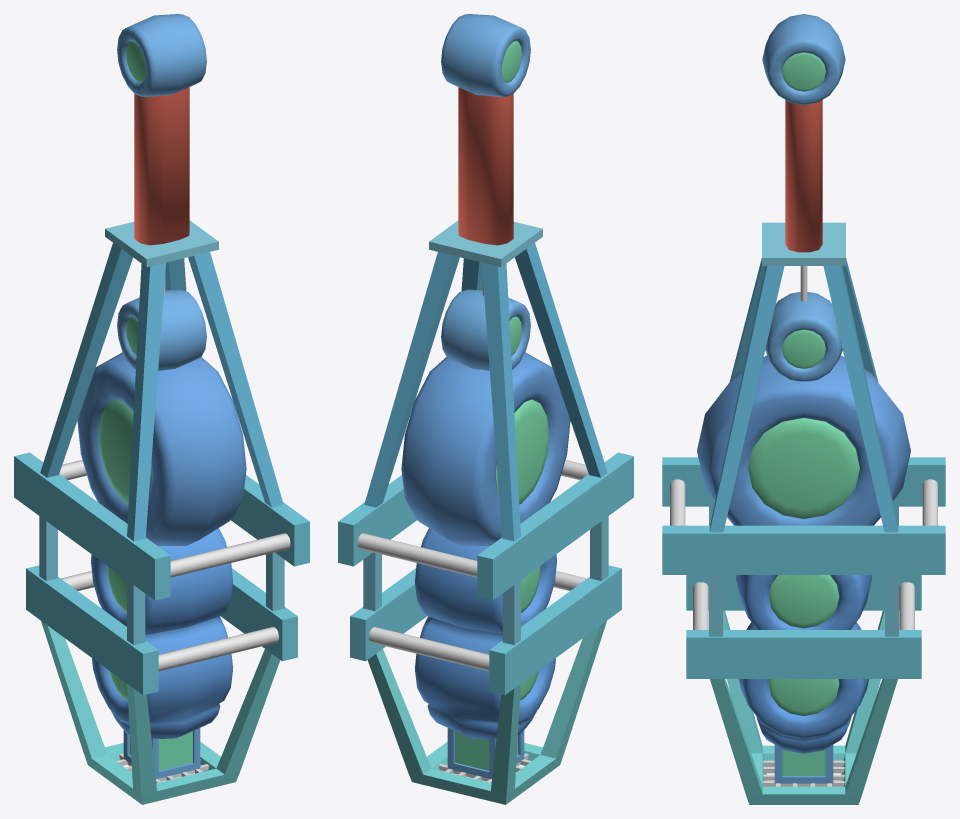
The model's file is healingcharm.fbx.
3 renders of one model, left to right at view 1: azimuth 30°, elevation 25°; view 2: azimuth 150°, elevation 25°; view 3: azimuth 270°, elevation 25°, orthographic.
Parts seen in each view (by area): view 1: Cube.003, Cylinder.003, Cube.004, Cylinder.002, Cube.007, Cube.009, Cylinder.007, Cube.010, Cylinder.001, Cube.006, Cylinder.004, Cube (+4 smaller); view 2: Cube.003, Cylinder.003, Cube.004, Cylinder.002, Cube.007, Cube.009, Cylinder.007, Cube.010, Cylinder.001, Cube.006, Cylinder.004, Cube (+4 smaller); view 3: Cube.003, Cylinder.003, Cube.004, Cube.007, Cylinder.002, Cylinder.004, Cube.009, Cylinder.007, Cylinder.001, Cylinder.005, Cube.010, Cube (+7 smaller).
Boxes of the visible parts, x1,y1,x2,y2 form: Cube.003: (14,452,309,695); Cylinder.003: (77,352,246,546); Cube.004: (40,243,283,541); Cylinder.002: (91,528,232,738); Cube.007: (41,621,280,804); Cube.009: (134,87,189,245); Cylinder.007: (117,14,206,97); Cube.010: (59,460,290,671); Cylinder.001: (117,289,206,370); Cube.006: (39,516,284,645); Cylinder.004: (98,399,152,504); Cube: (105,220,218,266); Cube.003: (338,452,633,695); Cylinder.003: (401,352,570,546); Cube.004: (364,243,607,541); Cylinder.002: (415,528,556,738); Cube.007: (367,621,606,804); Cube.009: (458,87,513,245); Cylinder.007: (441,14,530,97); Cube.010: (357,460,588,671); Cylinder.001: (441,289,530,370); Cube.006: (363,516,608,645); Cylinder.004: (495,399,549,504); Cube: (429,220,542,266); Cube.003: (662,457,945,678); Cylinder.003: (697,355,910,525); Cube.004: (709,258,898,532); Cube.007: (710,610,897,804); Cylinder.002: (736,575,871,753); Cylinder.004: (748,418,859,518); Cube.009: (785,100,822,252); Cylinder.007: (762,14,845,104); Cylinder.001: (765,292,842,381); Cylinder.005: (768,575,839,628); Cube.010: (670,479,937,629); Cube: (762,222,845,265).
Bounding box in the file's own units: 14.99 × 69.82 × 23.6.
